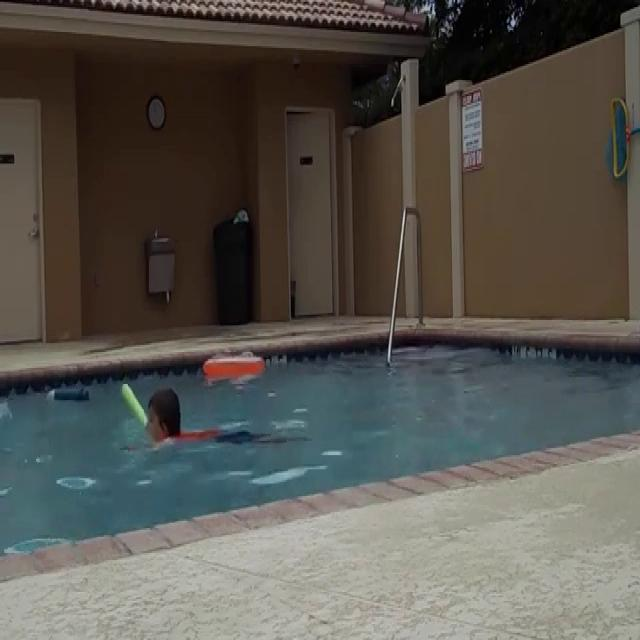child: (123, 384, 182, 479)
